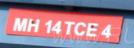1: (44, 19, 52, 34)
4: (101, 24, 113, 39), (52, 19, 62, 35)
C: (74, 21, 87, 37)
E: (86, 22, 99, 37)
H: (27, 18, 40, 33)
M: (12, 17, 28, 32)
T: (63, 20, 75, 35)
